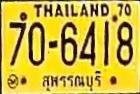0: (27, 21, 44, 65)
1: (103, 20, 108, 64)
4: (79, 20, 95, 66)
6: (60, 21, 76, 65)
7: (9, 21, 25, 66)
8: (116, 21, 132, 65)
SPB: (40, 70, 103, 92)
